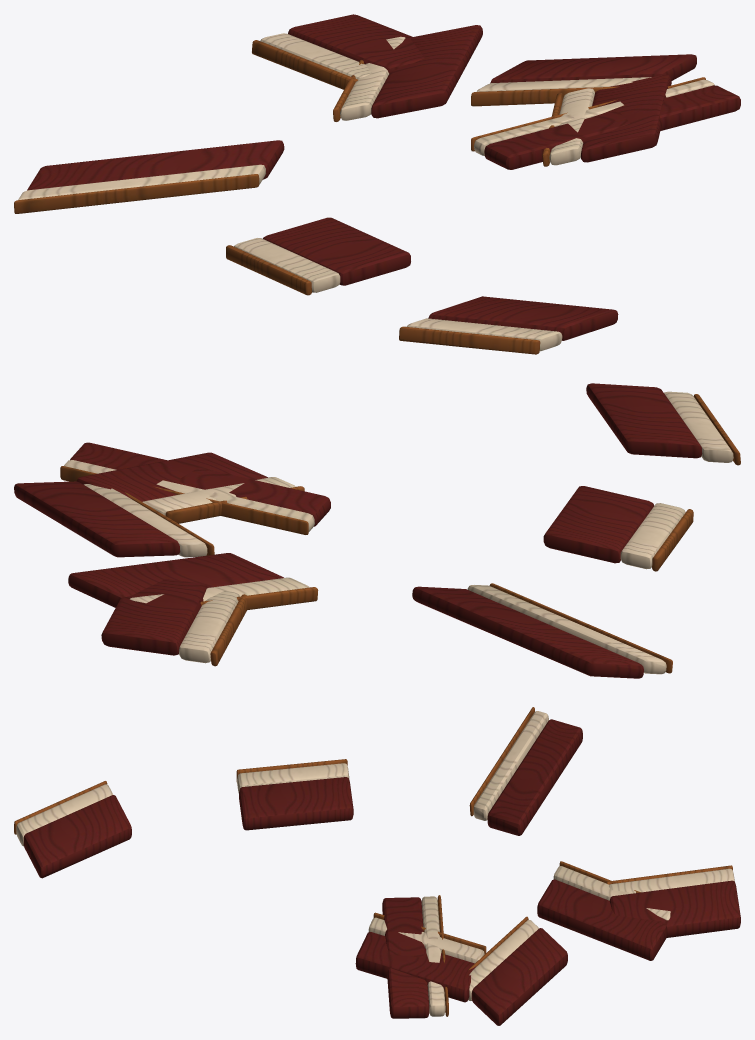
File: FOOD_Season_CuredPork.glb
3 renders of one model, top to bottom at view 1: azimuth 30°, elevation 25°; view 2: azimuth 150°, elevation 25°; view 3: azimuth 270°, elevation 25°, orthographic. The views are drawn at different scales.
Parts seen in each view (by area): view 1: FOOD_Season_CuredPork; view 2: FOOD_Season_CuredPork; view 3: FOOD_Season_CuredPork.
Part boxes in pixels (x1=…): FOOD_Season_CuredPork: x1=14, y1=14, x2=740, y2=354; FOOD_Season_CuredPork: x1=14, y1=383, x2=740, y2=678; FOOD_Season_CuredPork: x1=14, y1=707, x2=740, y2=1025.
Bounding box in the file's own units: 0.52 × 0.016 × 0.52.
Materials: 3 (3 with a texture image).
